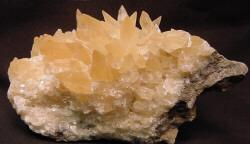calcite: (8, 7, 216, 142)
